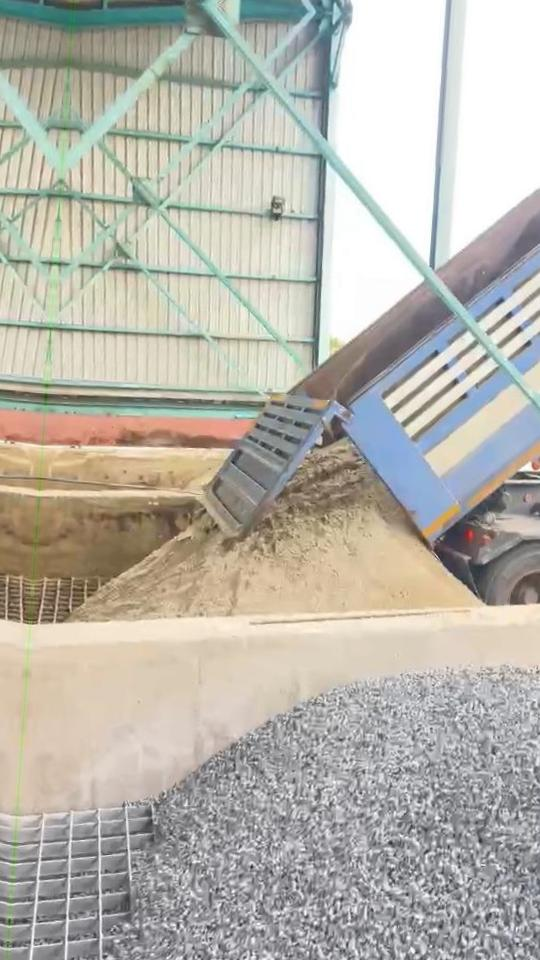gravel: (116, 668, 540, 960)
sand: (72, 444, 480, 620)
